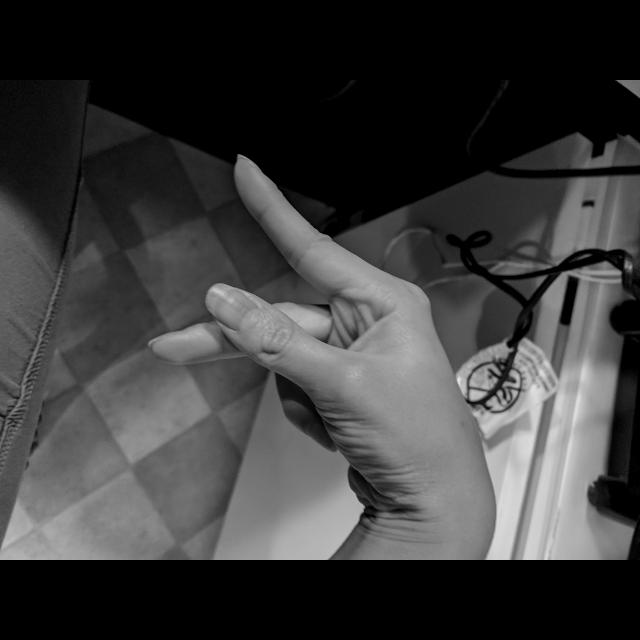P: (140, 150, 496, 508)
